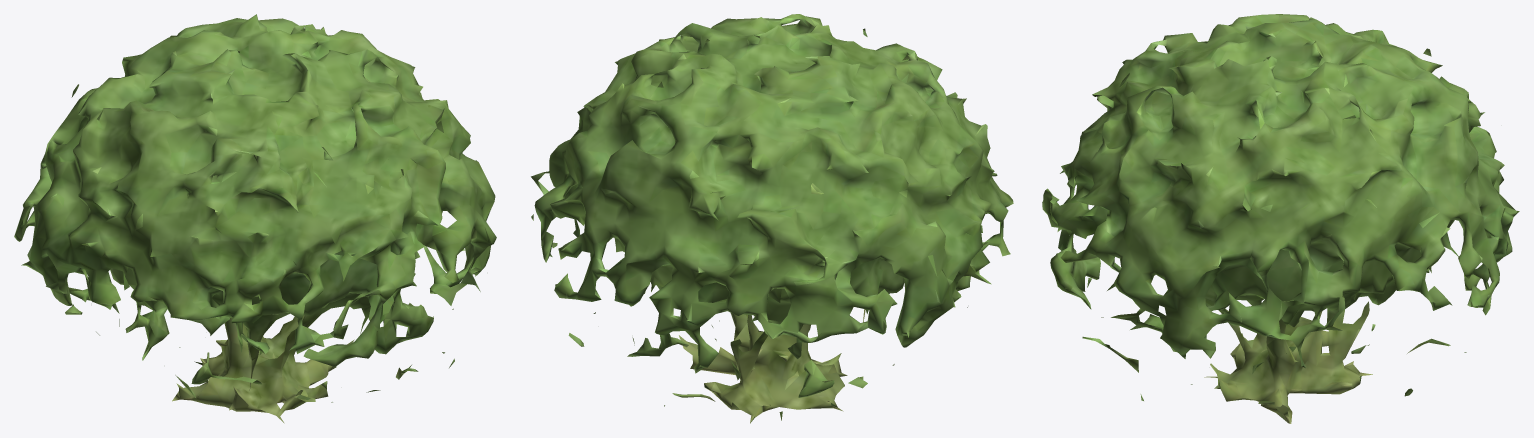
File: BushLeafy.glb
3 views of the same model, side by side, from view 1: azimuth 30°, elevation 25°; view 2: azimuth 150°, elevation 25°; view 3: azimuth 270°, elevation 25° (orthographic).
Visible parts, largest first — view 1: BushLeafy; view 2: BushLeafy; view 3: BushLeafy.
Boxes of the visible parts, box(x1,y1,x2,y2) form: BushLeafy: box(14, 14, 496, 423); BushLeafy: box(531, 14, 1013, 423); BushLeafy: box(1042, 14, 1519, 423).
Bounding box in the file's own units: 1.44 × 1.13 × 1.44.
1 material, 1 textured.
